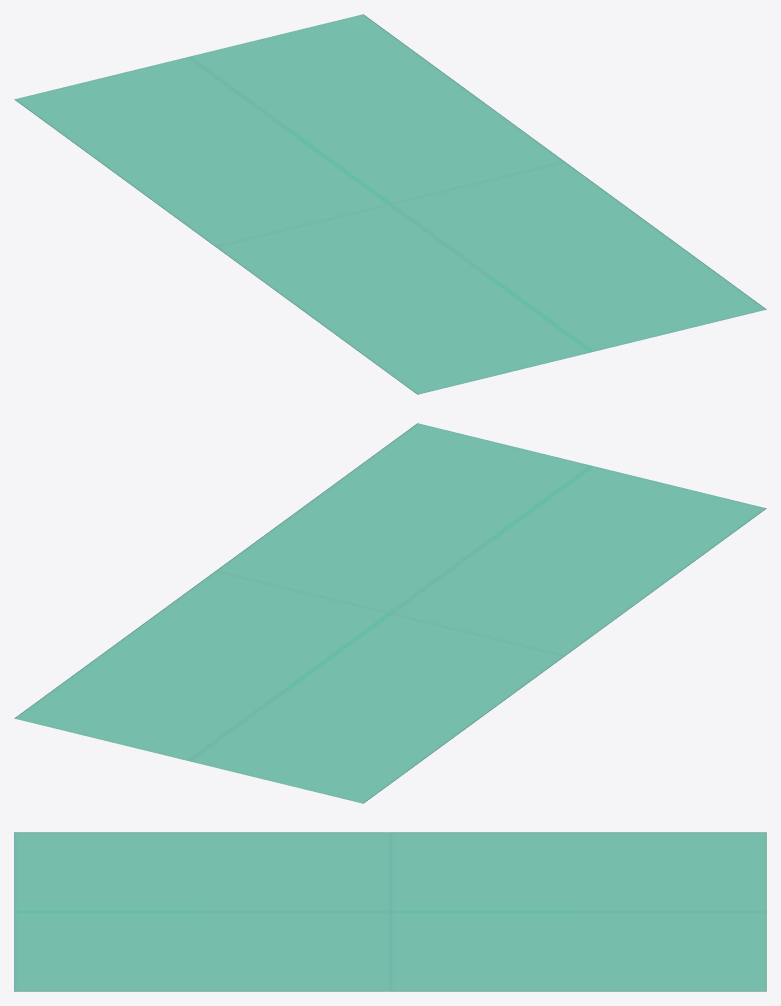
Rendered from MK_Path_Straight_Raw.fbx.
The picture shows the model from 3 angles, top to bottom: view 1: azimuth 30°, elevation 25°; view 2: azimuth 150°, elevation 25°; view 3: azimuth 270°, elevation 25°; orthographic projection. The views are drawn at different scales.
Visible parts, largest first — view 1: Path_Straight_Raw; view 2: Path_Straight_Raw; view 3: Path_Straight_Raw.
Boxes of the visible parts, x1=… form: Path_Straight_Raw: x1=14, y1=14, x2=766, y2=394; Path_Straight_Raw: x1=14, y1=423, x2=766, y2=803; Path_Straight_Raw: x1=14, y1=832, x2=766, y2=991.
Size of the model in its own units: 90 by 0 by 180.
1 material, 1 textured.
